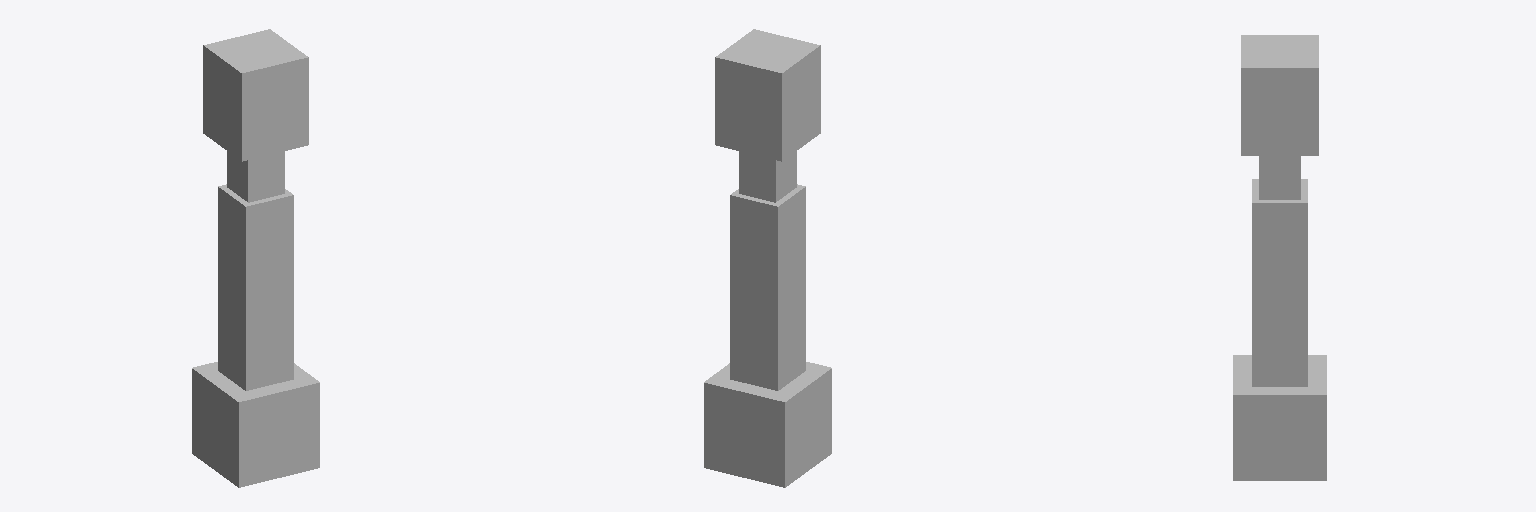
The model's file is ThingGlitched.obj.
3 views of the same model, side by side, from view 1: azimuth 30°, elevation 25°; view 2: azimuth 150°, elevation 25°; view 3: azimuth 270°, elevation 25° (orthographic).
Parts seen in each view (by area): view 1: Cube; view 2: Cube; view 3: Cube.
Boxes of the visible parts, x1,y1,x2,y2 form: Cube: [192, 29, 319, 487]; Cube: [704, 29, 831, 487]; Cube: [1233, 35, 1326, 480].
Bounding box in the file's own units: 2 × 9.57 × 2.